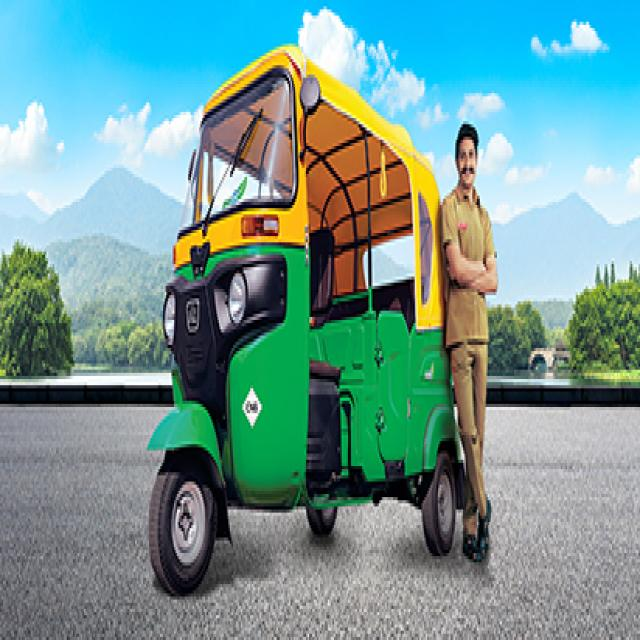autorickshaw: (149, 45, 465, 595)
